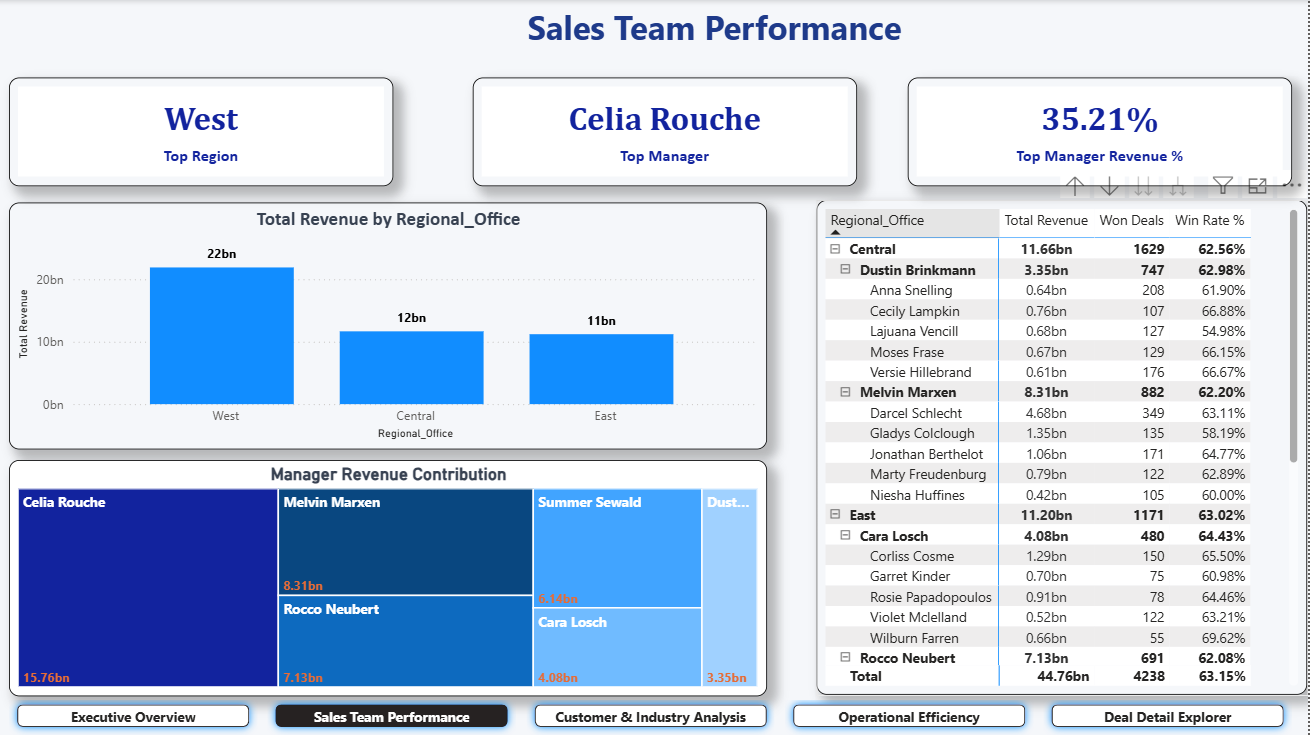

The dashboard page shown, as its layout file describes it:
{"tool":"powerbi","page":{"name":"Sales Team Performance","canvas":[1280,720],"ordinal":1},"visuals":[{"type":"columnChart","fields":{"Category":["sales_teams.Regional_Office"],"Y":["sales_pipeline.Total Revenue"]},"box":[10,197.5,741.2,241.2],"z":0},{"type":"treemap","title":"Manager Revenue Contribution","fields":{"Group":["sales_teams.Manager"],"Values":["sales_pipeline.Total Revenue"]},"box":[10,450,741.2,231.2],"z":1000},{"type":"pivotTable","fields":{"Values":["sales_pipeline.Total Revenue","sales_pipeline.Won Deals","sales_pipeline.Win Rate %"],"Rows":["sales_teams.Regional_Office","sales_teams.Manager","sales_teams.Sales_Agent"]},"box":[800,196.2,480.3,484.4],"z":2000},{"type":"cardVisual","fields":{"Data":["sales_pipeline.Top Manager"]},"box":[463.8,76.2,376.2,106.2],"z":3000},{"type":"cardVisual","fields":{"Data":["sales_pipeline.Top Region"]},"box":[10,76.2,376.2,106.2],"z":4000},{"type":"cardVisual","fields":{"Data":["sales_pipeline.Top Manager Revenue %"]},"box":[888.8,76.2,376.2,106.2],"z":5000},{"type":"textbox","box":[401.2,0,597.5,61.2],"z":6000},{"type":"pageNavigator","box":[10,681.2,1255,38.8],"z":7000}]}

Visuals, with their boxes in screenshot pixels (x1, y1, x2, y2), scaled from the page's 1280x720 canvas onto the 1310x735 screenshot:
columnChart - sales_teams.Regional_Office x sales_pipeline.Total Revenue: region(10, 202, 769, 448)
"Manager Revenue Contribution" treemap: region(10, 459, 769, 695)
pivotTable - sales_pipeline.Total Revenue x sales_pipeline.Won Deals: region(819, 200, 1309, 695)
cardVisual - sales_pipeline.Top Manager: region(475, 78, 860, 186)
cardVisual - sales_pipeline.Top Region: region(10, 78, 395, 186)
cardVisual - sales_pipeline.Top Manager Revenue %: region(910, 78, 1295, 186)
textbox: region(411, 0, 1022, 62)
pageNavigator: region(10, 695, 1295, 734)
